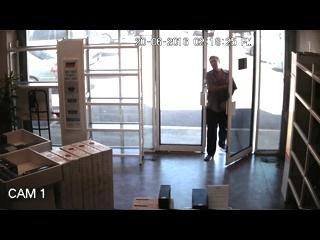Normal: (204, 56, 238, 162)
